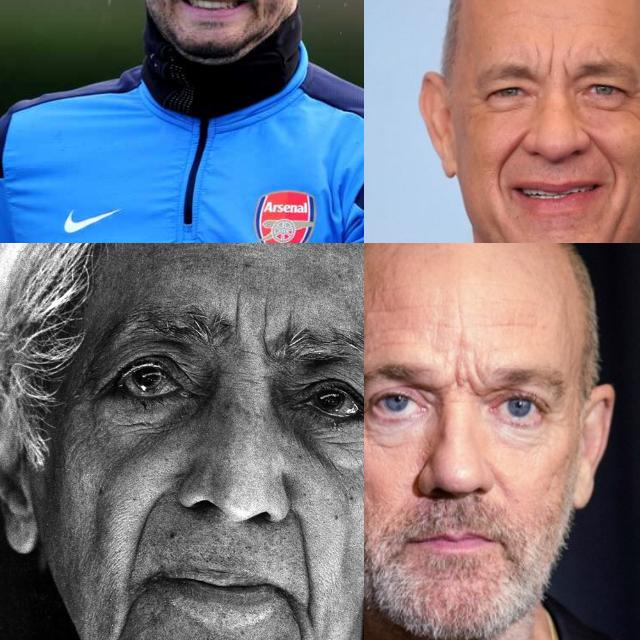crows_feet: (624, 86, 640, 117)
forehead: (371, 296, 412, 318), (488, 314, 530, 334), (450, 306, 470, 342)
frown_line: (229, 296, 275, 352), (441, 364, 484, 396), (529, 46, 543, 76), (560, 58, 574, 82), (544, 52, 554, 82)
gummy_smile: (283, 508, 321, 586), (128, 496, 162, 562), (494, 134, 524, 180), (587, 134, 615, 174)
sad_smile: (110, 589, 146, 640), (282, 595, 318, 640)
